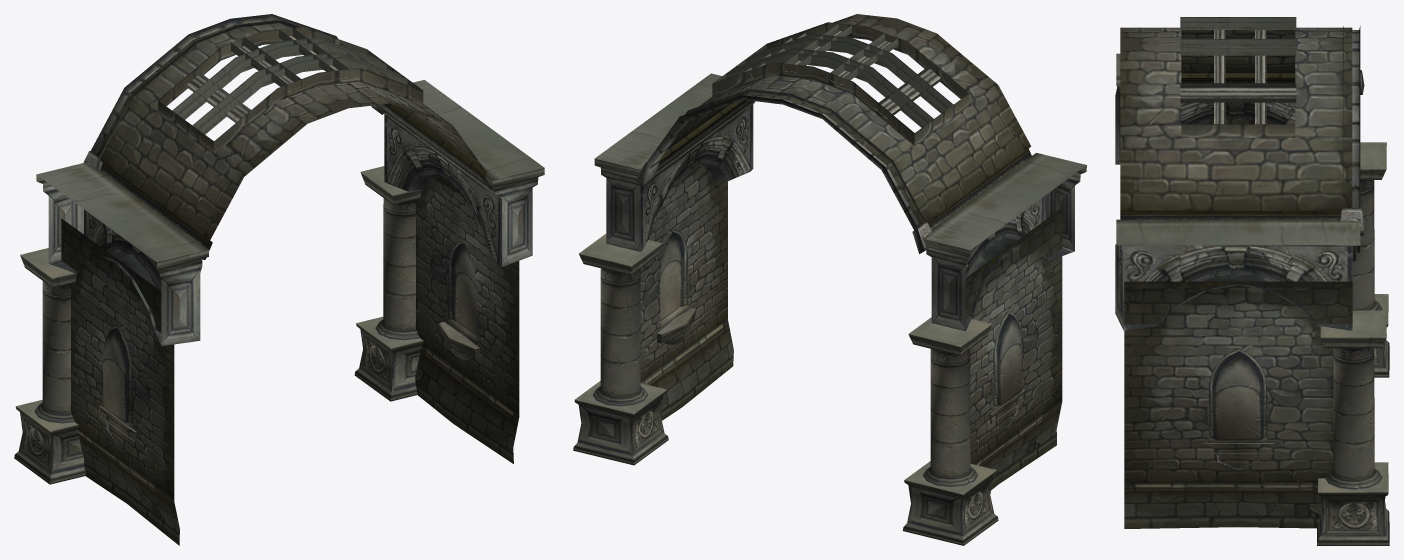
File: DN_1_4_ldao02_w.FBX
3 views of the same model, side by side, from view 1: azimuth 30°, elevation 25°; view 2: azimuth 150°, elevation 25°; view 3: azimuth 270°, elevation 25° (orthographic). The views are drawn at different scales.
Parts seen in each view (by area): view 1: DN_1_4_ldao02_w; view 2: DN_1_4_ldao02_w; view 3: DN_1_4_ldao02_w.
Boxes of the visible parts, box(x1,y1,x2,y2) form: DN_1_4_ldao02_w: box(14, 14, 544, 545); DN_1_4_ldao02_w: box(573, 14, 1086, 545); DN_1_4_ldao02_w: box(1115, 17, 1389, 545).
Bounding box in the file's own units: 938 × 914 × 544.
